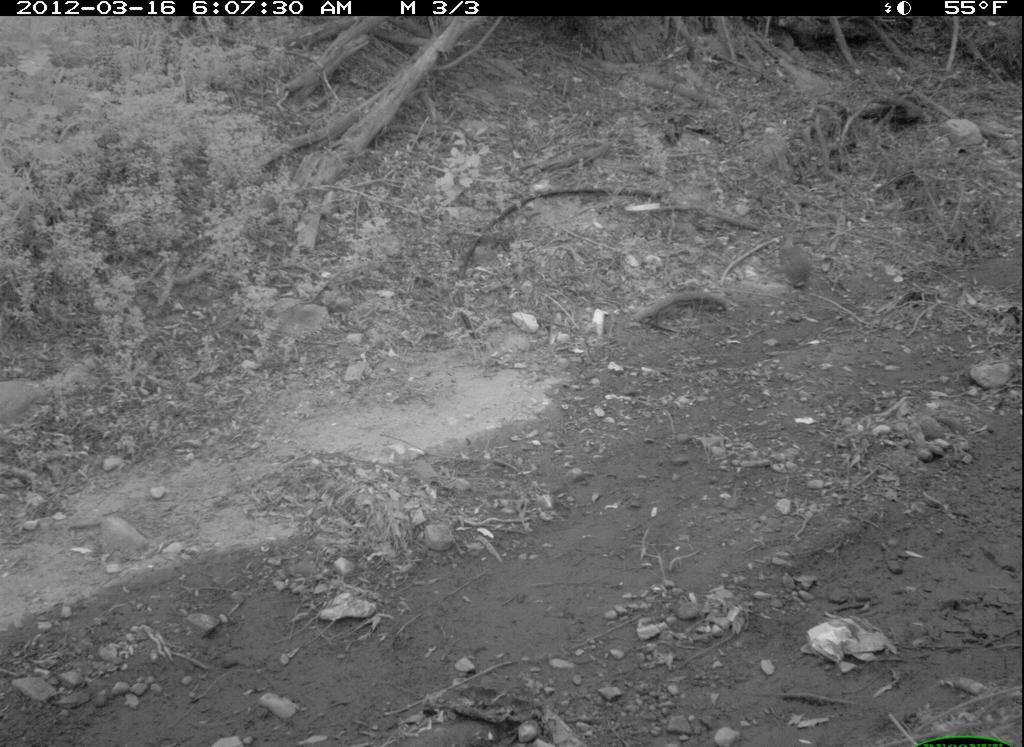rabbit: (774, 209, 819, 295)
